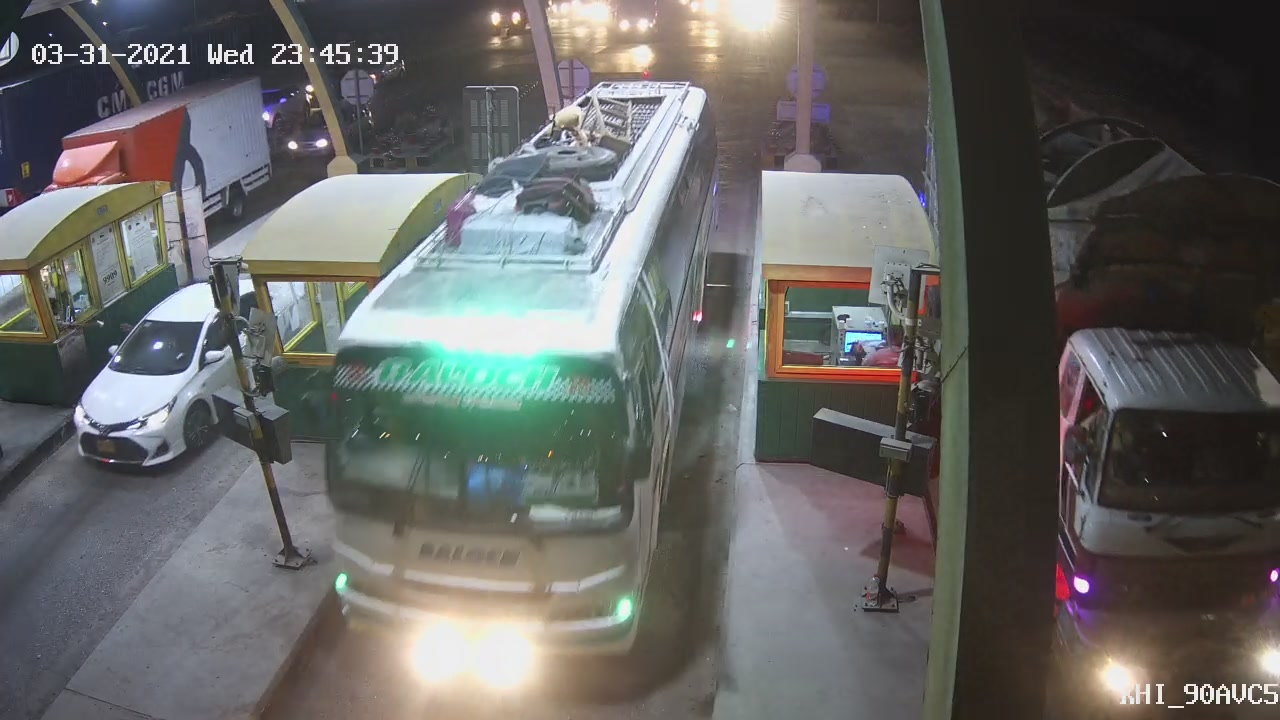F4: (302, 71, 732, 669)
